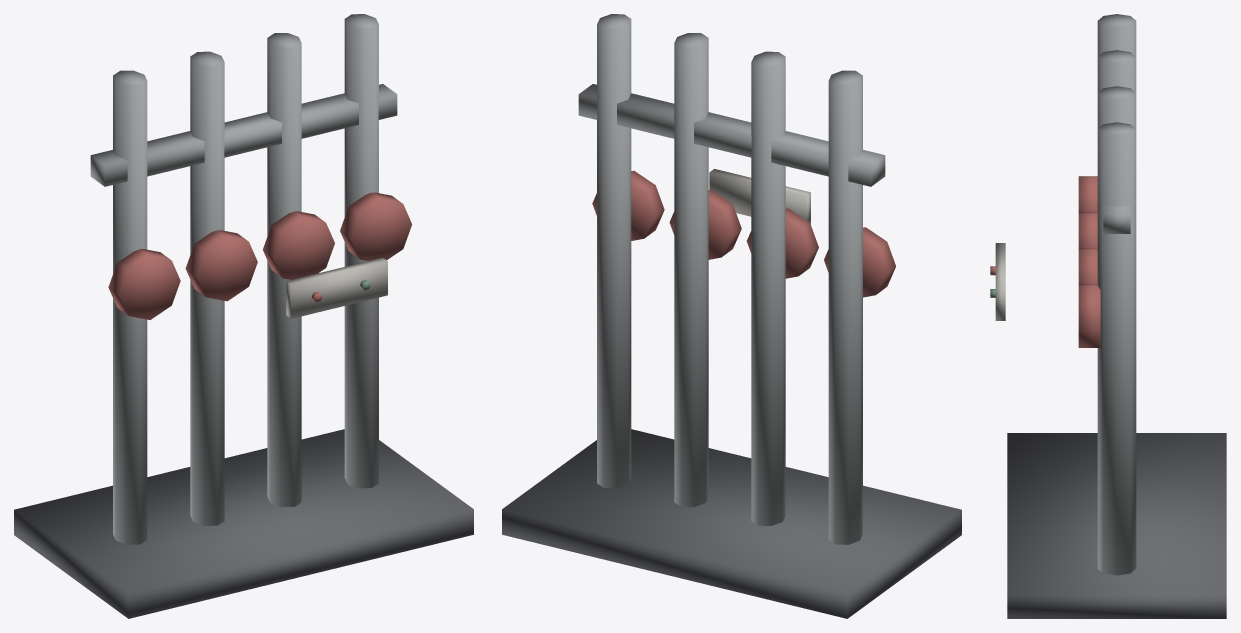
File: pipe_valve_station__deep.glb
3 views of the same model, side by side, from view 1: azimuth 30°, elevation 25°; view 2: azimuth 150°, elevation 25°; view 3: azimuth 270°, elevation 25° (orthographic). The views are drawn at different scales.
Visible parts, largest first — view 1: world; view 2: world; view 3: world.
Part boxes in pixels (left/top/right/bottom): world: left=14, top=14, right=473, bottom=618; world: left=502, top=14, right=961, bottom=618; world: left=990, top=14, right=1226, bottom=618.
Size of the model in its own units: 0.85 by 1.14 by 0.5258.
